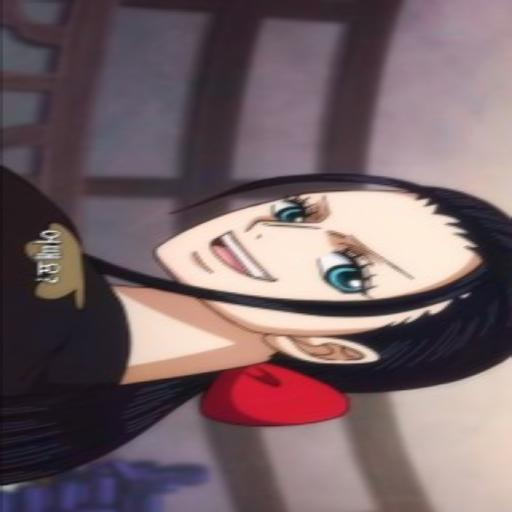NicoRobin: (171, 169, 512, 404)
